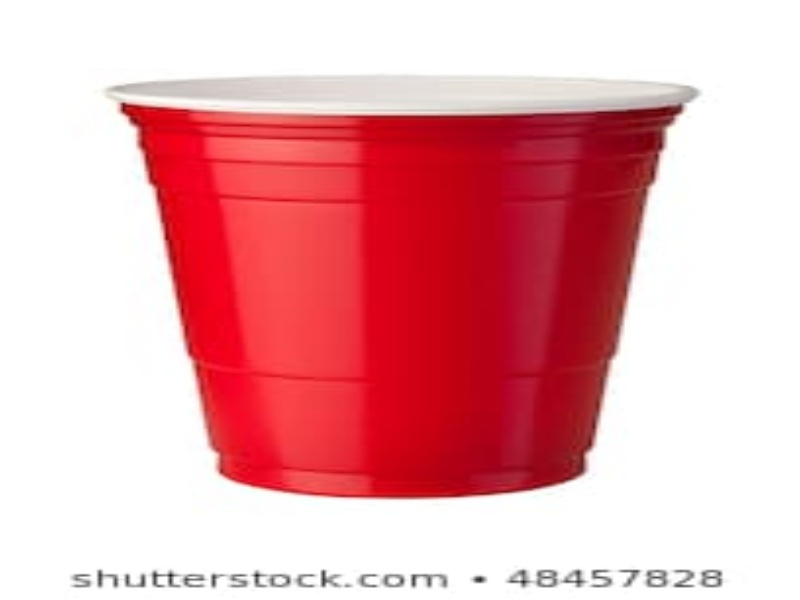plastic-cup: (102, 67, 705, 502)
